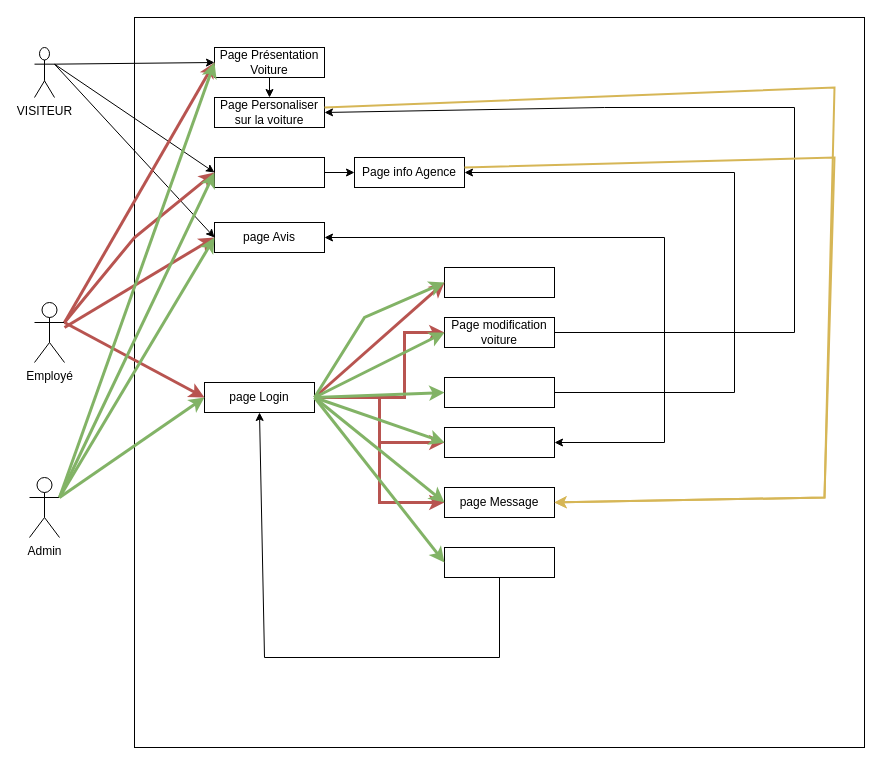
The diagram is 882 pixels wide and 765 high, and some of its shapes have lost their labels. The centre of each missing label's shape, as x and y in pixels:
Page envois Avis: pixel 499 282
Page modification Agence: pixel 499 392
Page modification utilisateur: pixel 499 562
Page Préstations: pixel 269 172
Page traitement Avis: pixel 499 442
